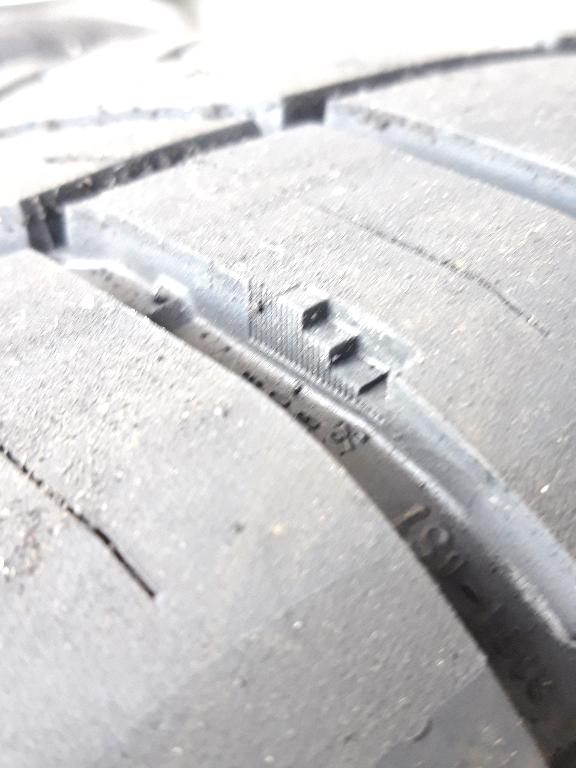temoin:75: (269, 277, 431, 434)
